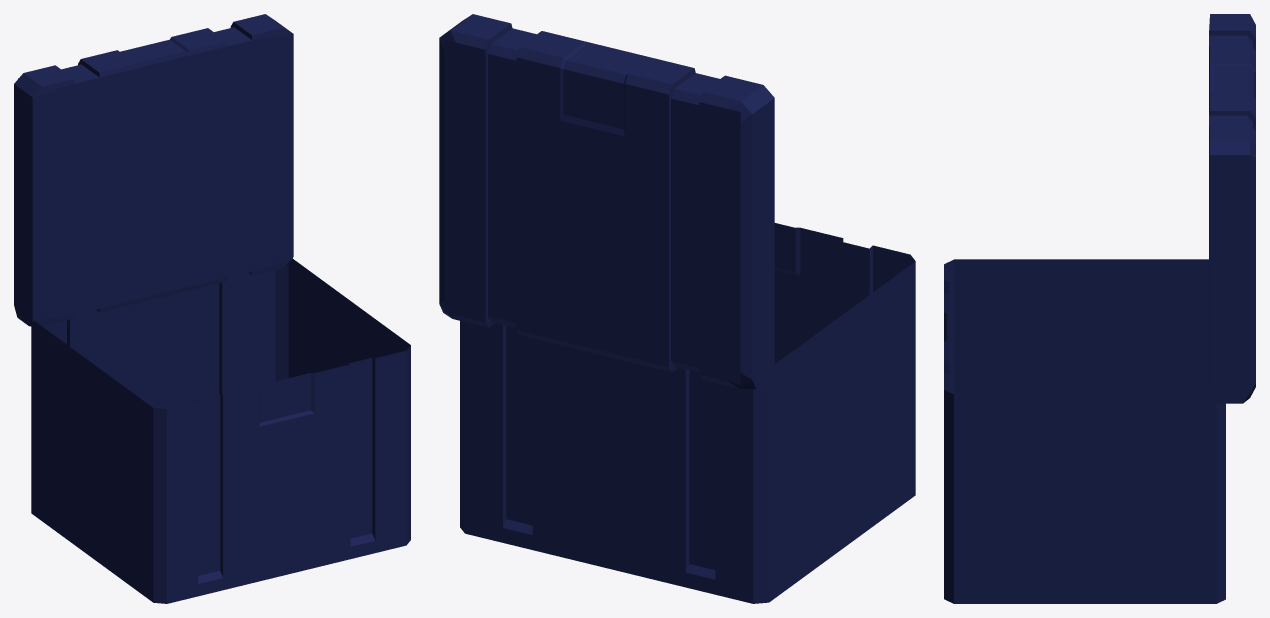
Rendered from crate.glb.
The picture shows the model from 3 angles, left to right: view 1: azimuth 30°, elevation 25°; view 2: azimuth 150°, elevation 25°; view 3: azimuth 270°, elevation 25°; orthographic projection. The views are drawn at different scales.
Parts seen in each view (by area): view 1: Box1, Box2; view 2: Box1, Box2; view 3: Box1, Box2.
Boxes of the visible parts, x1,y1,x2,y2 form: Box1: [31, 258, 410, 603]; Box2: [14, 14, 293, 326]; Box1: [460, 223, 915, 603]; Box2: [439, 14, 774, 389]; Box1: [944, 259, 1225, 603]; Box2: [1209, 14, 1255, 403].
Bounding box in the file's own units: 2.56 × 4 × 2.46.
